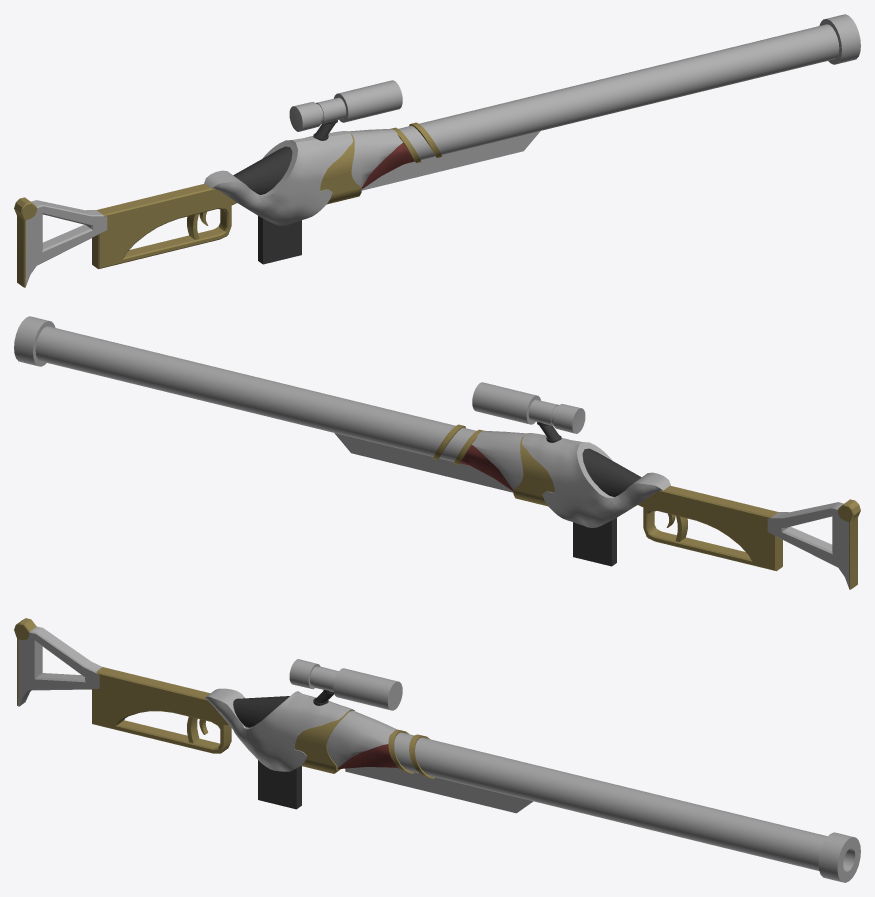
The model's file is Gun.fbx.
3 renders of one model, top to bottom at view 1: azimuth 30°, elevation 25°; view 2: azimuth 150°, elevation 25°; view 3: azimuth 330°, elevation 25°, orthographic.
Visible parts, largest first — view 1: pCube13; view 2: pCube13; view 3: pCube13.
Boxes of the visible parts, <box> form: pCube13: <box>14,14,860,287</box>; pCube13: <box>14,316,860,589</box>; pCube13: <box>14,618,860,882</box>.
Size of the model in its own units: 26.5 by 1.44 by 4.52.
